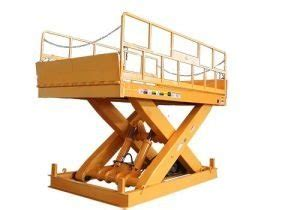Scissor Lift: (36, 11, 228, 210)
